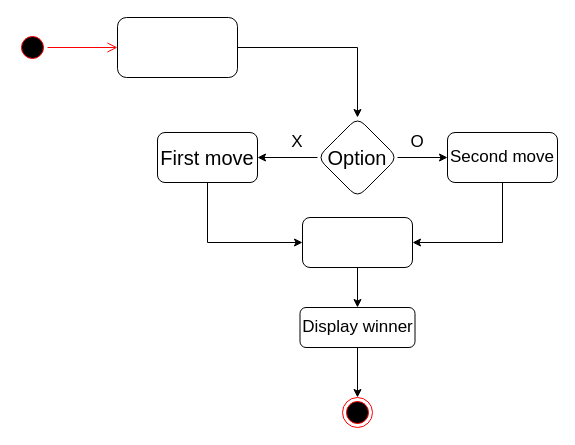
The diagram is 575 pixels wide and 445 high, and some of its shapes have lost their labels. Here are the shapes that lost their labels. From the top down, the box of each, then its label:
(116, 16, 238, 78): Start game
(302, 216, 412, 268): Check winner
